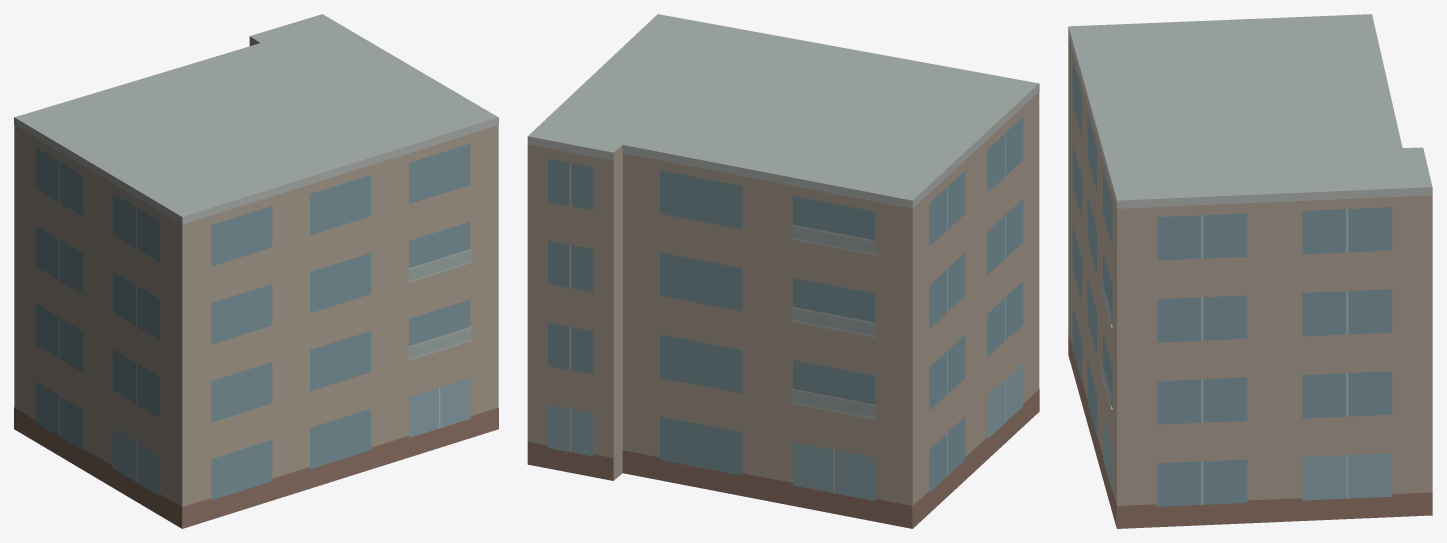
The model's file is survey-upis-32654030.glb.
3 renders of one model, left to right at view 1: azimuth 30°, elevation 25°; view 2: azimuth 150°, elevation 25°; view 3: azimuth 270°, elevation 25°, orthographic. The views are drawn at different scales.
Parts seen in each view (by area): view 1: survey-upis-32654030.tmp; view 2: survey-upis-32654030.tmp; view 3: survey-upis-32654030.tmp.
Part boxes in pixels (bbox=[...]): survey-upis-32654030.tmp: bbox=[14, 14, 498, 528]; survey-upis-32654030.tmp: bbox=[527, 14, 1039, 528]; survey-upis-32654030.tmp: bbox=[1068, 14, 1432, 528].
Size of the model in its own units: 11.96 by 9.8 by 9.87.
